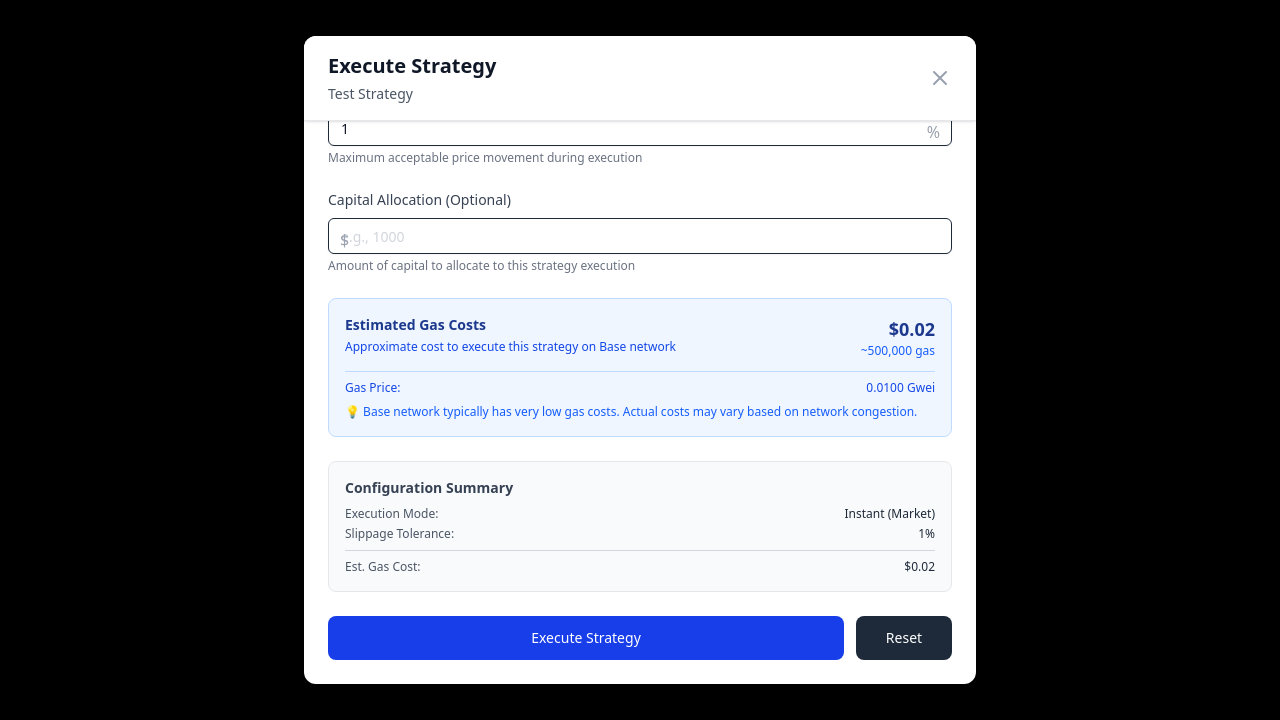
Test: StrategyExecutionModal › Execution Flow › displays error when execution fails
(page scrolled)
Click the button "Execute Strategy".
click(586, 638)  # box [328,616,844,660]
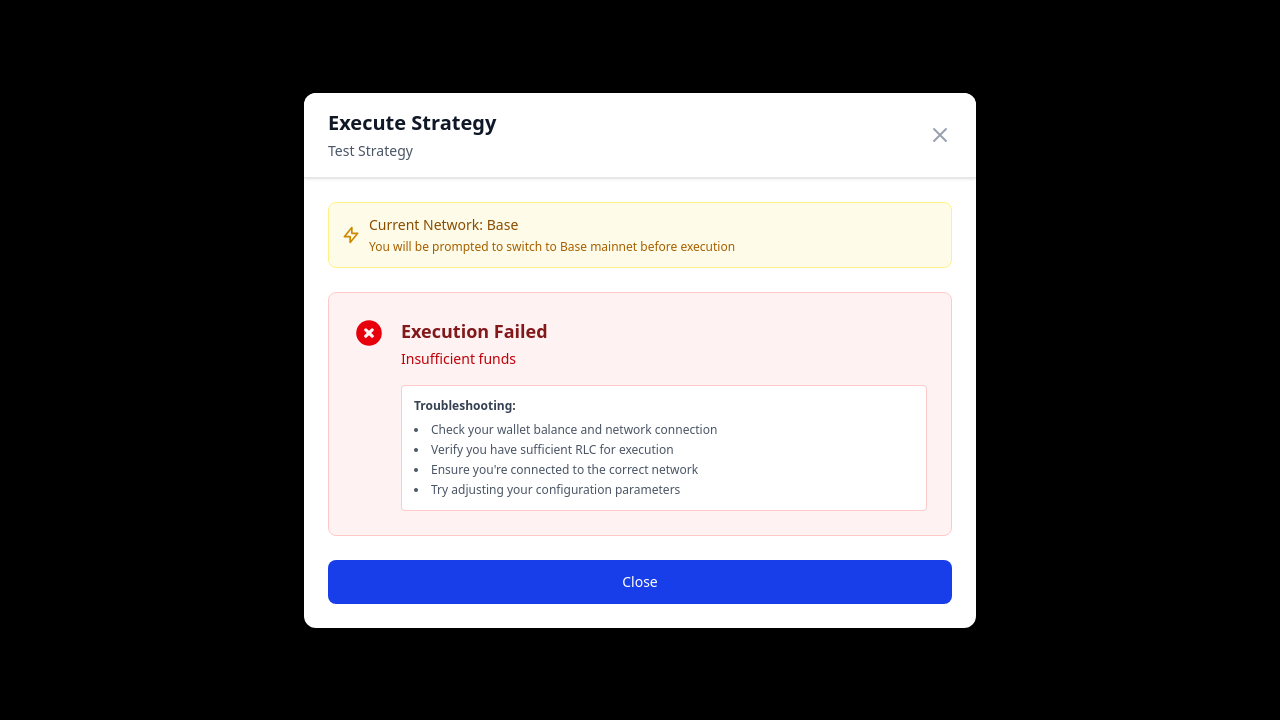
Expected: the text "Insufficient funds" is shown, [401,348,516,368]
